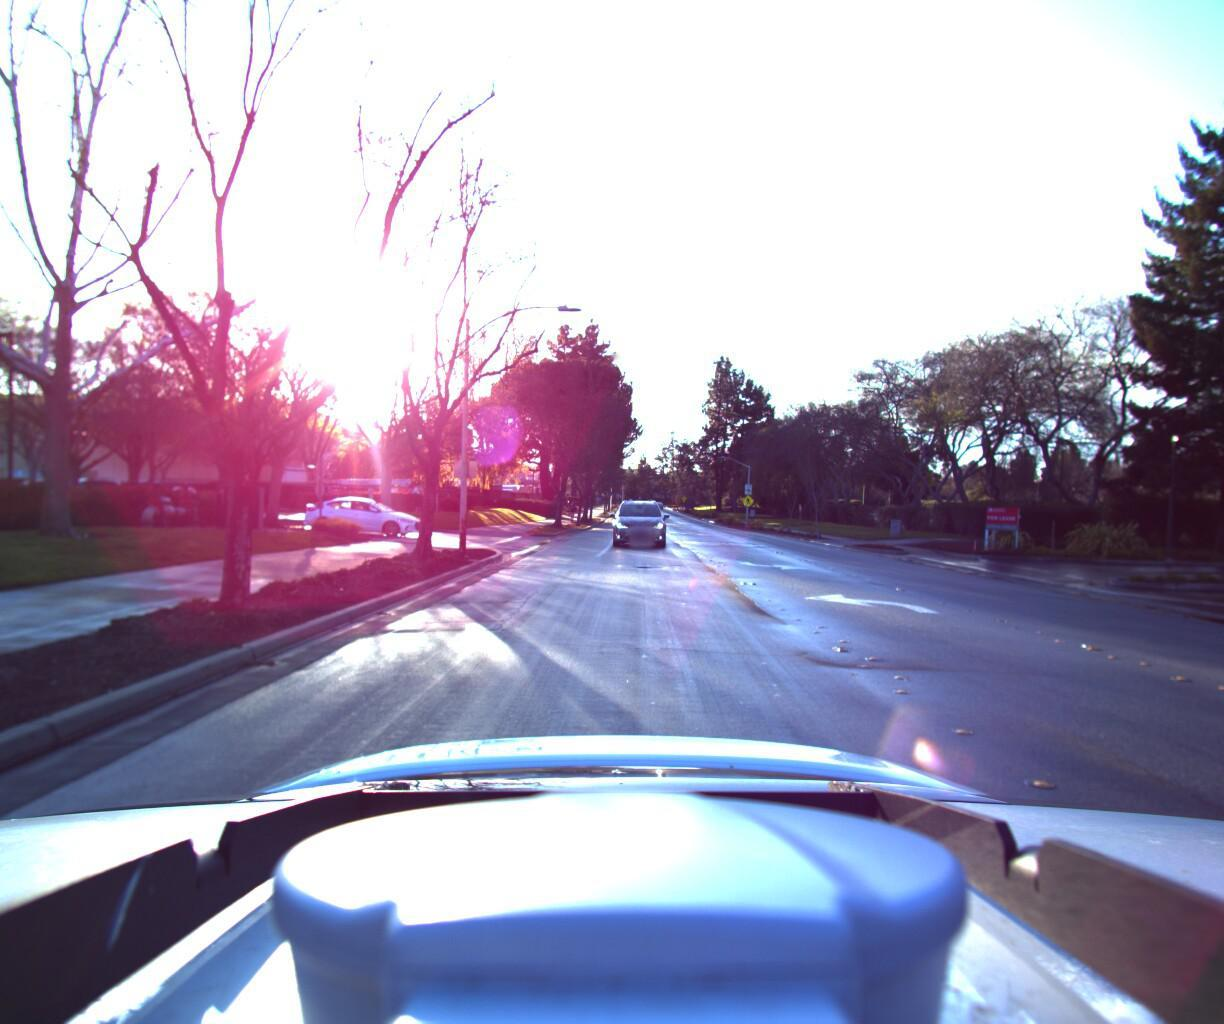car: (303, 492, 429, 535), (614, 494, 670, 547)
